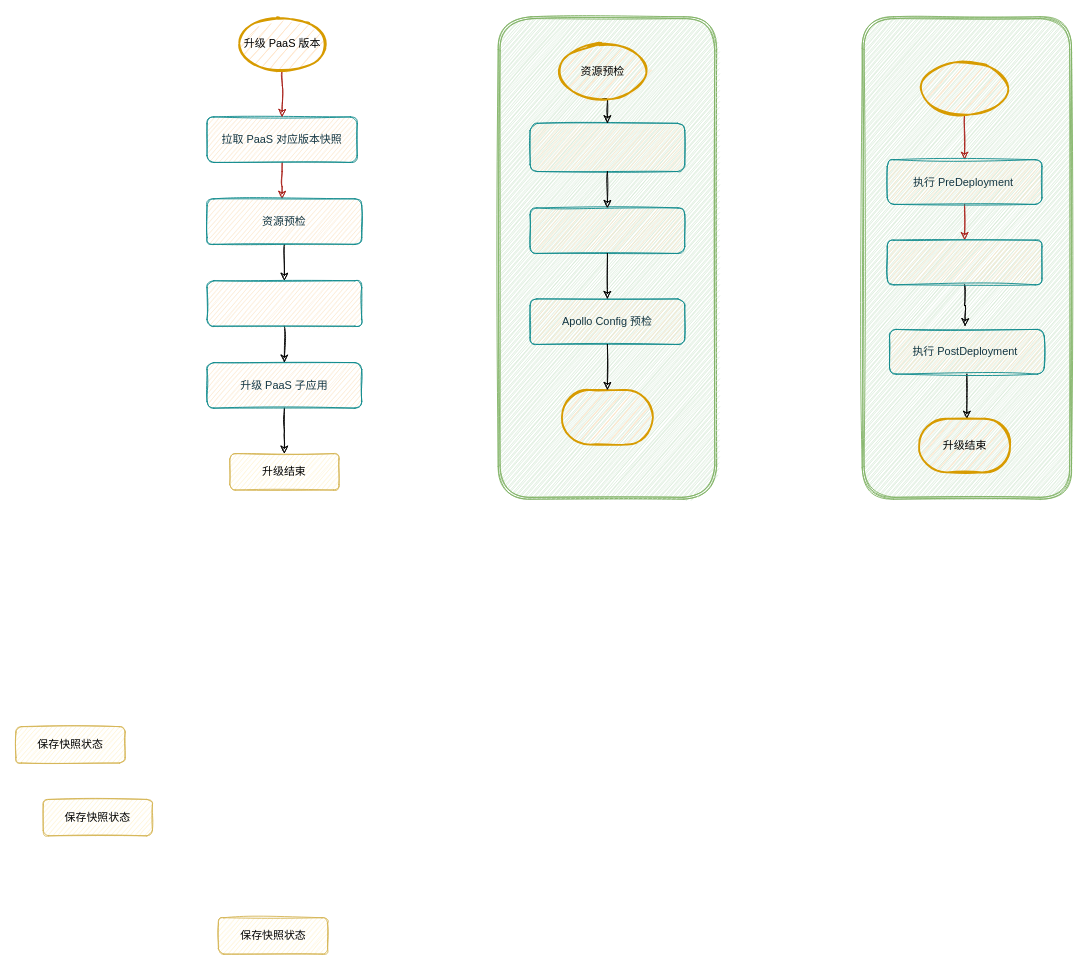
The diagram is 1087 pixels wide and 970 high, and some of its shapes have lost their labels. Each missing label, with the centre of its shape:
"PaaS 子应用升级" goes at point 964,88.
"SQL 预检" goes at point 607,230.
"创建/更新 k8s deploy/svc/ingress 对象" goes at point 964,262.
"参照快照，生成 k8s 各资源对象" goes at point 284,303.
"镜像预检" goes at point 607,147.
"预检结束" goes at point 607,417.
